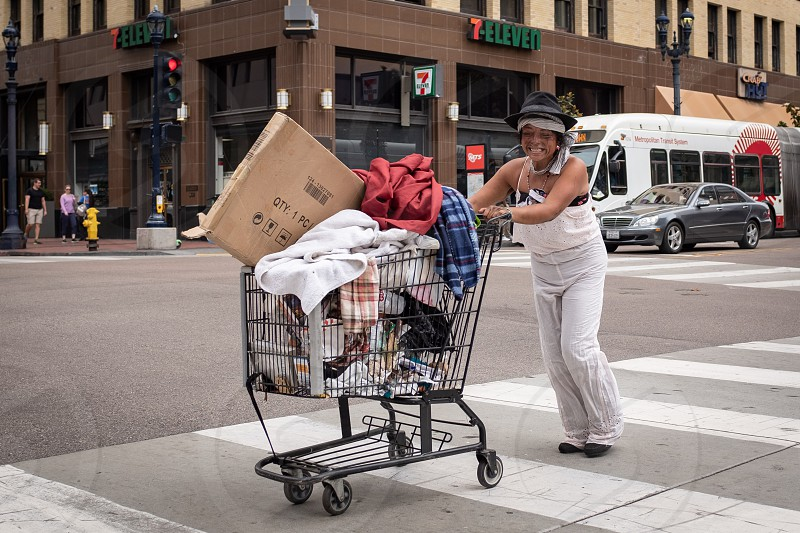Car: (598, 181, 778, 247)
Crosswalk: (619, 344, 800, 531)
Person: (479, 93, 650, 462), (20, 174, 51, 240), (50, 182, 80, 242)
shopping_cart: (213, 203, 525, 512)
